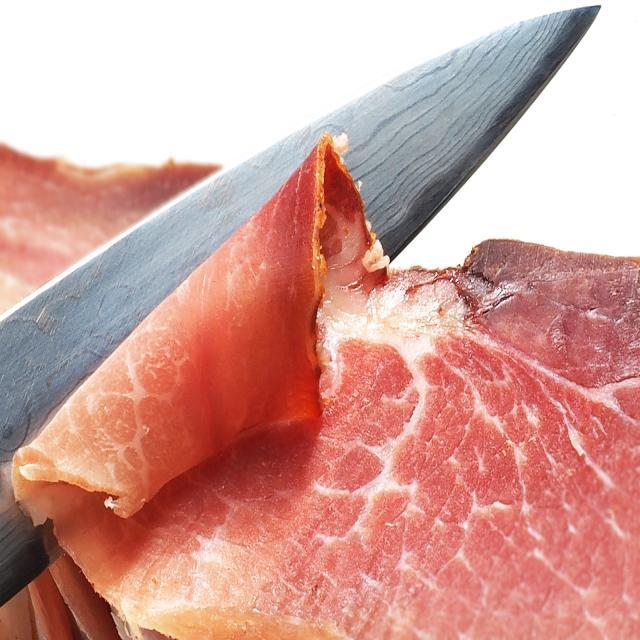Knife: (0, 8, 599, 461), (0, 500, 46, 601)
